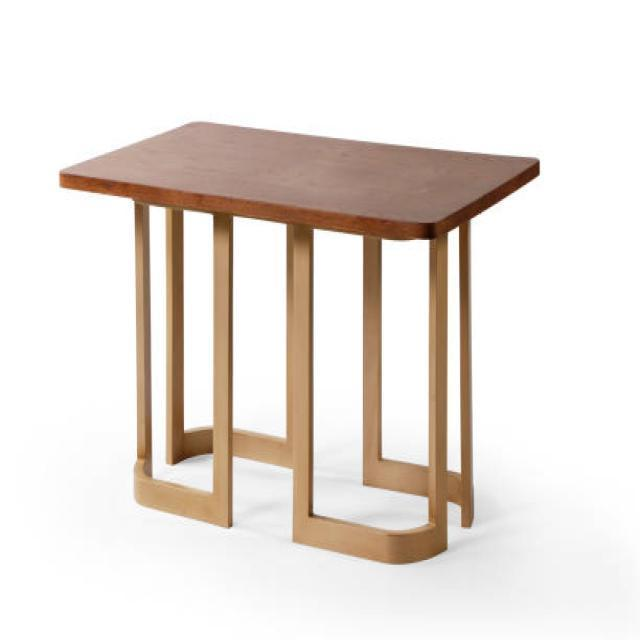table: (58, 118, 540, 564)
